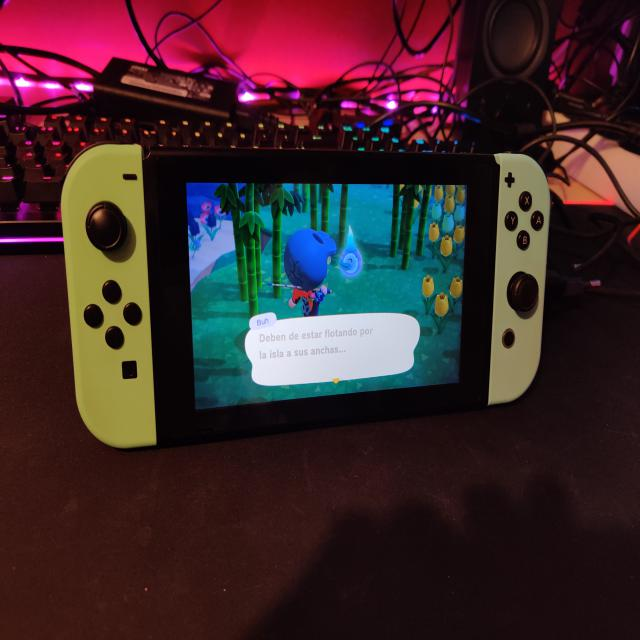text_bubble: (245, 311, 423, 389)
